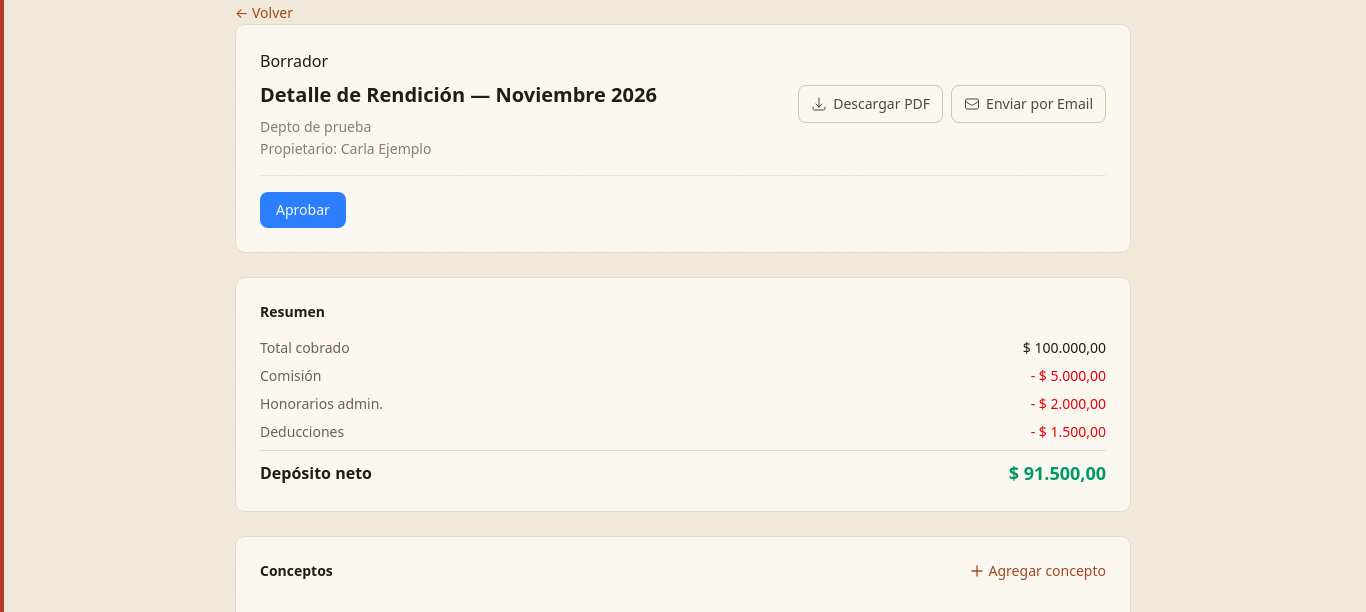
Test: RenditionDetail › agrega un concepto con el formulario
The width and height of the screenshot is (1366, 612).
Expected: the heading "Detalle de Rendición — Noviembre 2026" is shown, [260,81,657,109]
Step 1. Click the button "Agregar concepto" → coordinates (1037, 571), box [969,561,1106,581]
(page scrolled)
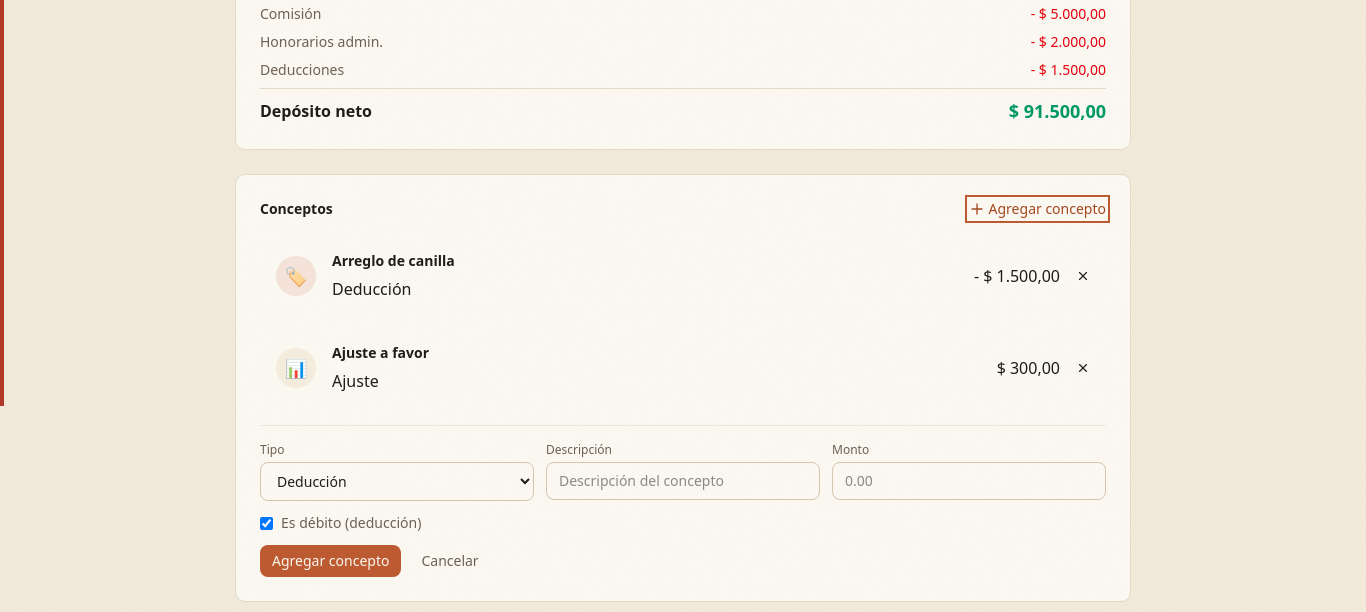
Step 2. Select "Ajuste" in the dropdown → coordinates (397, 482), box [260,462,534,501]
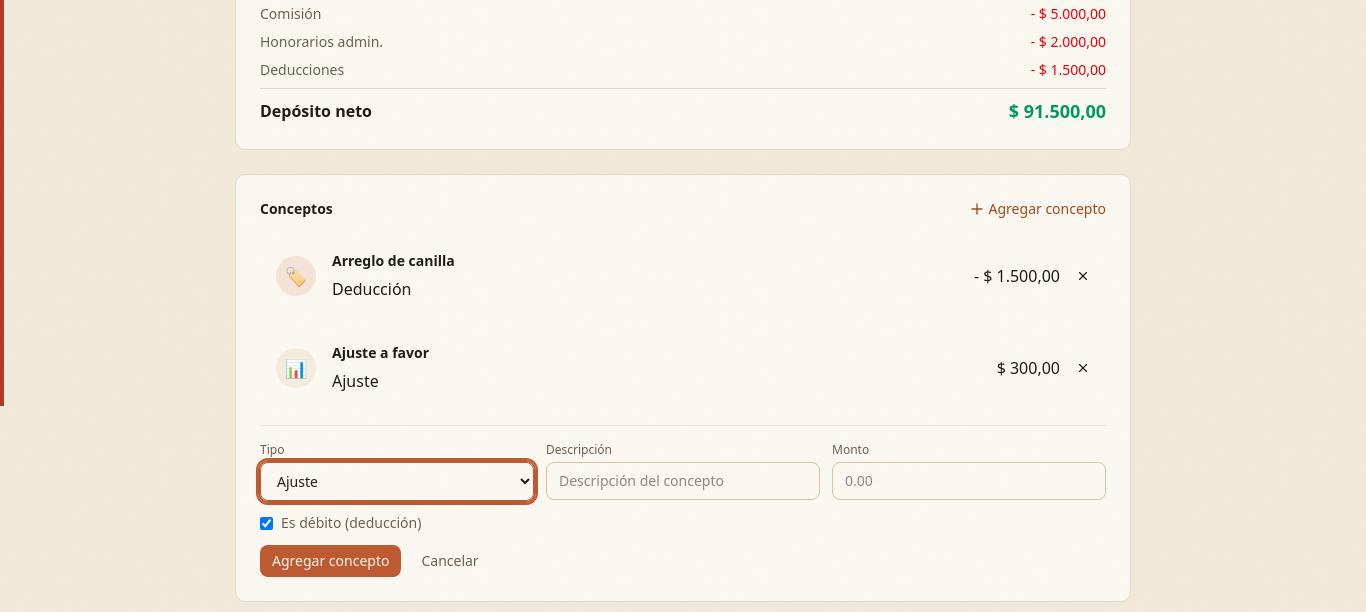
Step 3. Type "Reintegro" into the field with placeholder "Descripción del concepto" → coordinates (683, 481), box [546,462,820,500]
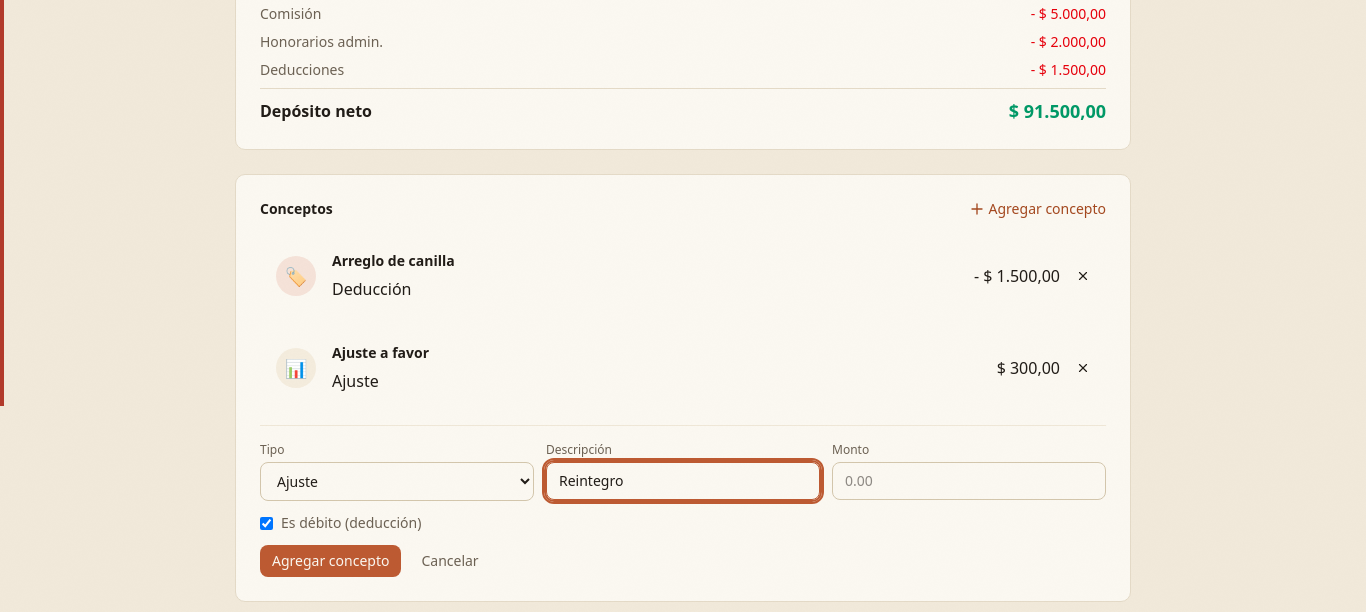
Step 4. Type "250" into the number field with placeholder "0.00" → coordinates (969, 481), box [832,462,1106,500]
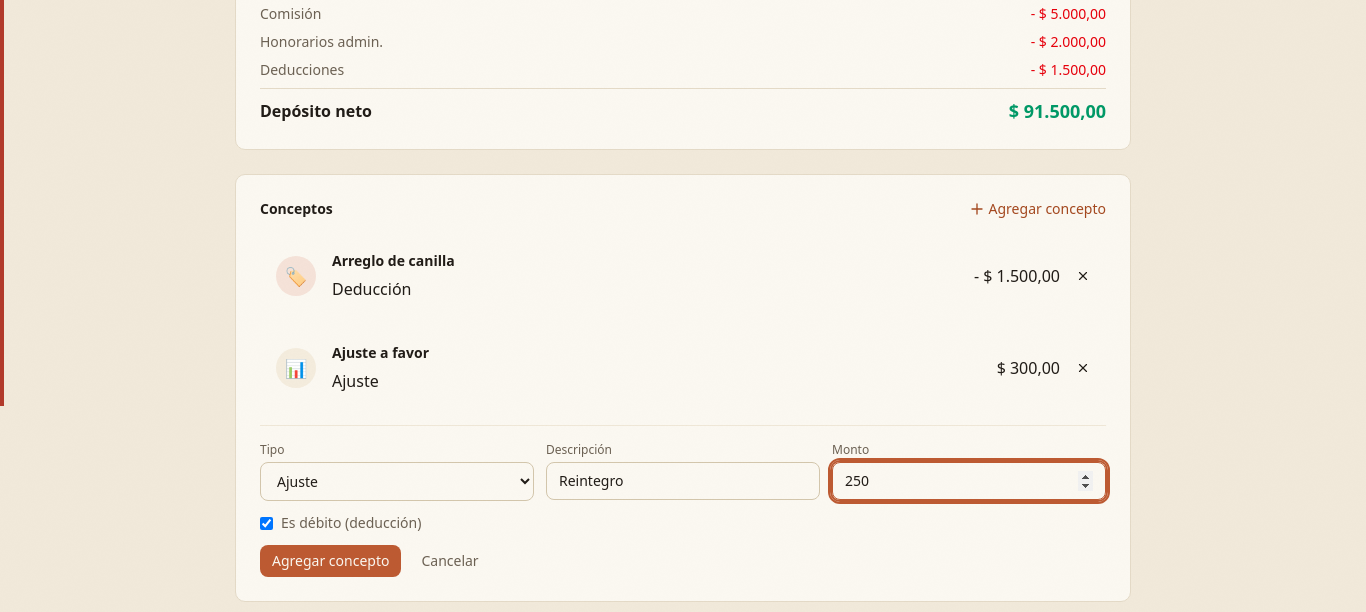
Step 5. Click the checkbox → coordinates (266, 523), box [260,516,273,530]
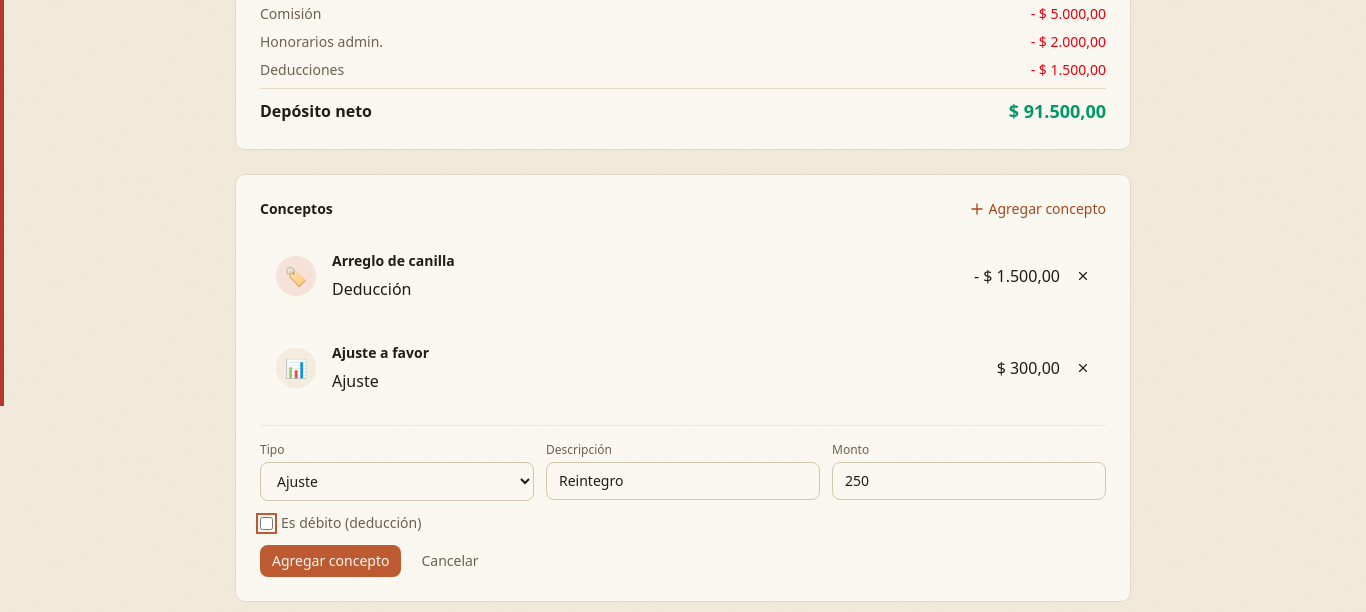
Step 6. Click the button "Agregar concepto" below "Es débito (deducción)" → coordinates (331, 561), box [260,545,401,577]
(page scrolled)
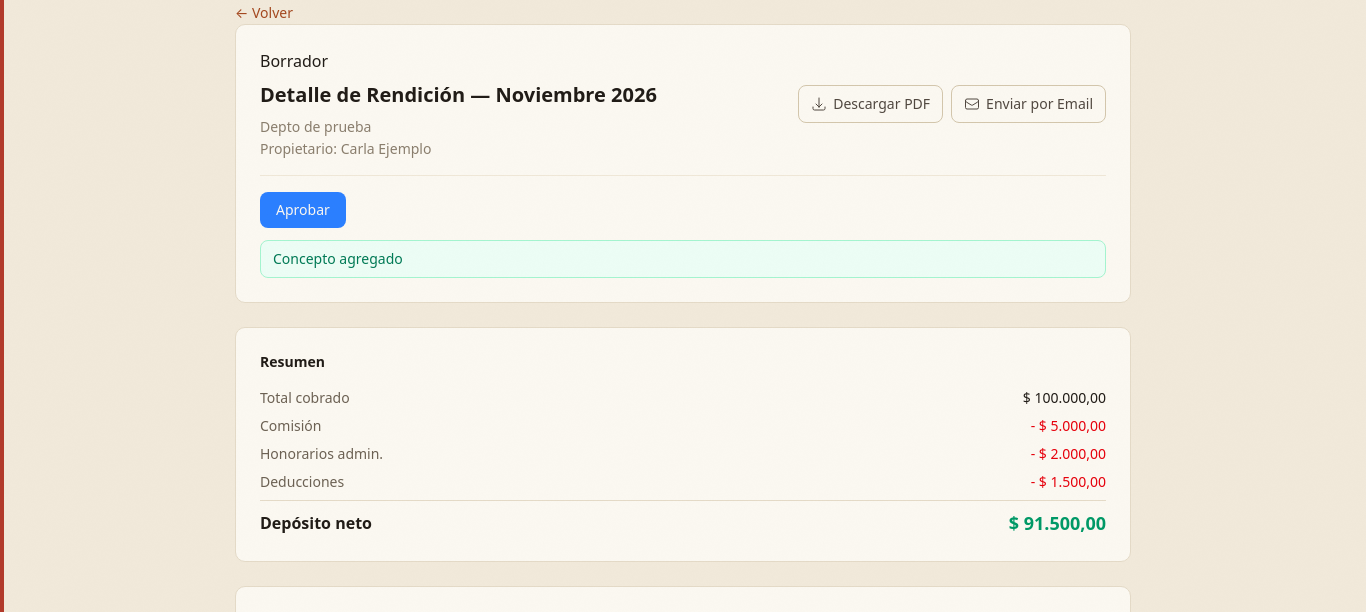
Expected: the text "Concepto agregado" is shown, [260,240,1106,278]
